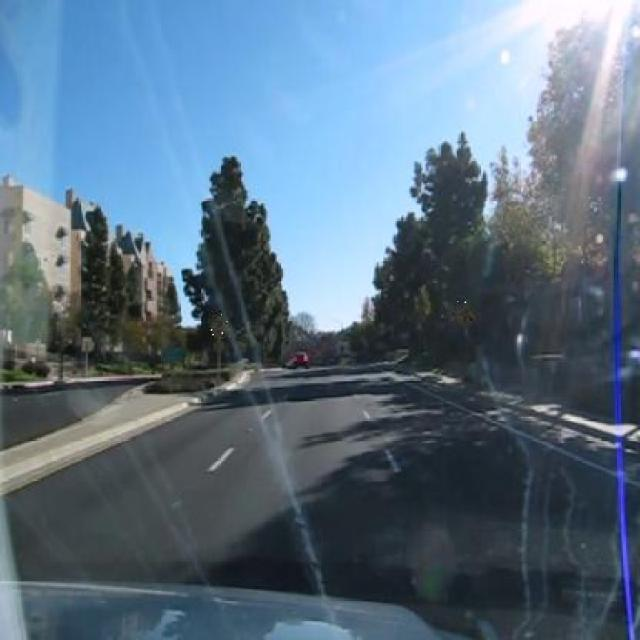signalAhead: (452, 298, 477, 334), (208, 309, 230, 342)
